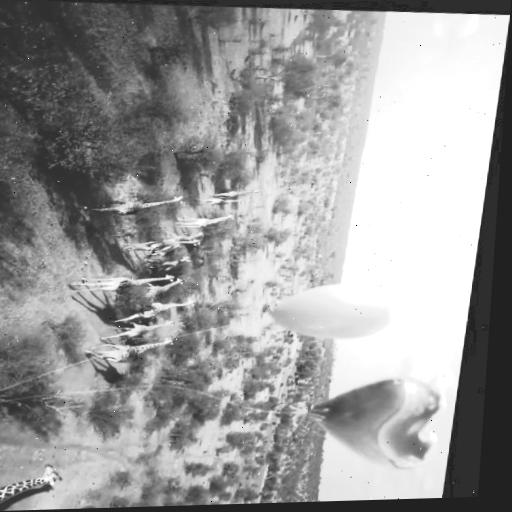balloon: (309, 367, 458, 468), (268, 279, 395, 337)
